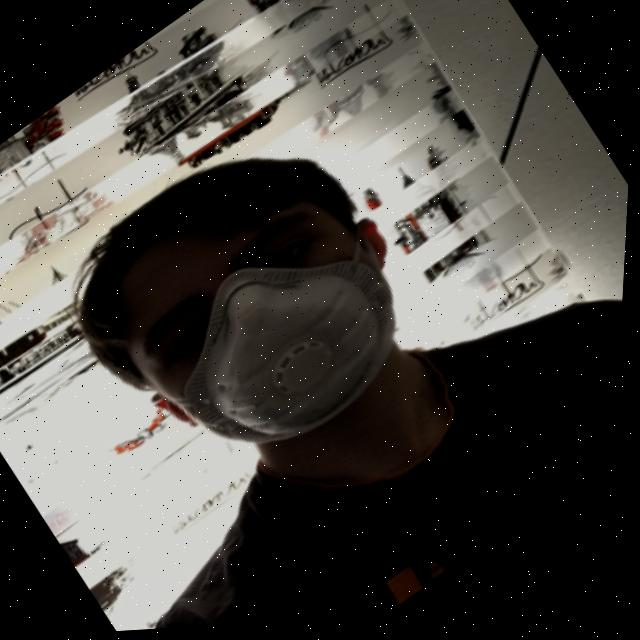Mask: (115, 197, 459, 514)
